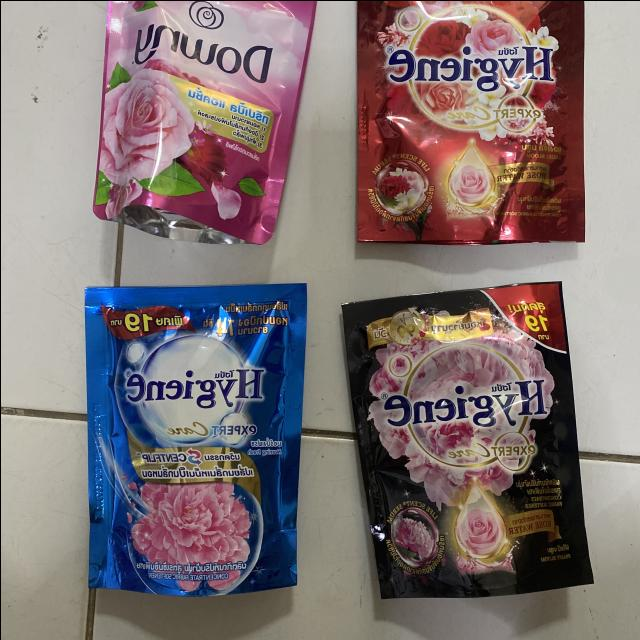plastik: (341, 281, 591, 597), (85, 283, 306, 595), (356, 0, 583, 243), (92, 0, 315, 243)
